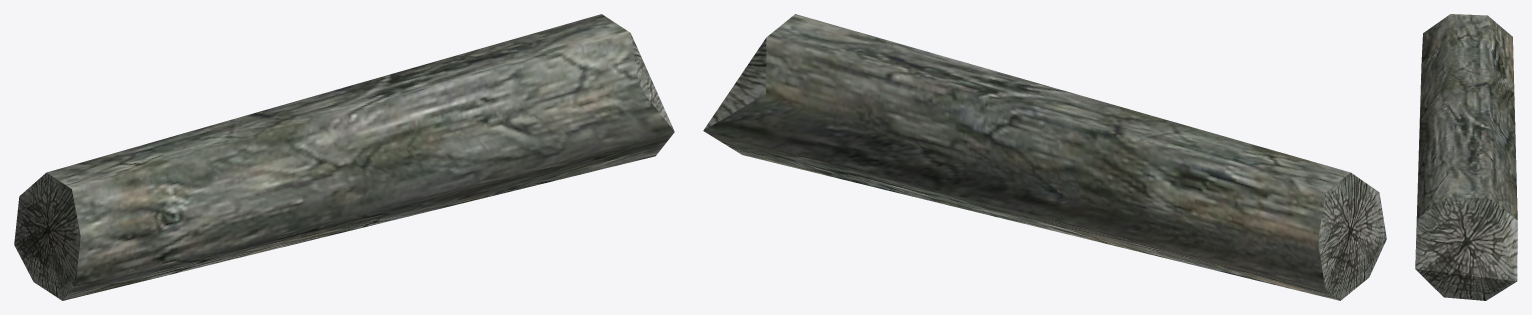
File: mucai_famu_jx_01.fbx
The picture shows the model from 3 angles, left to right: view 1: azimuth 30°, elevation 25°; view 2: azimuth 150°, elevation 25°; view 3: azimuth 270°, elevation 25°; orthographic projection. The views are drawn at different scales.
Visible parts, largest first — view 1: mucai_famu_jx_02; view 2: mucai_famu_jx_02; view 3: mucai_famu_jx_02.
Part boxes in pixels (left/top/right/bottom): mucai_famu_jx_02: left=14, top=14, right=674, bottom=300; mucai_famu_jx_02: left=703, top=14, right=1386, bottom=300; mucai_famu_jx_02: left=1415, top=14, right=1517, bottom=300.
Size of what is drawn, in the model's own units: 298 by 59.22 by 58.44.
Materials: 1 (1 with a texture image).
